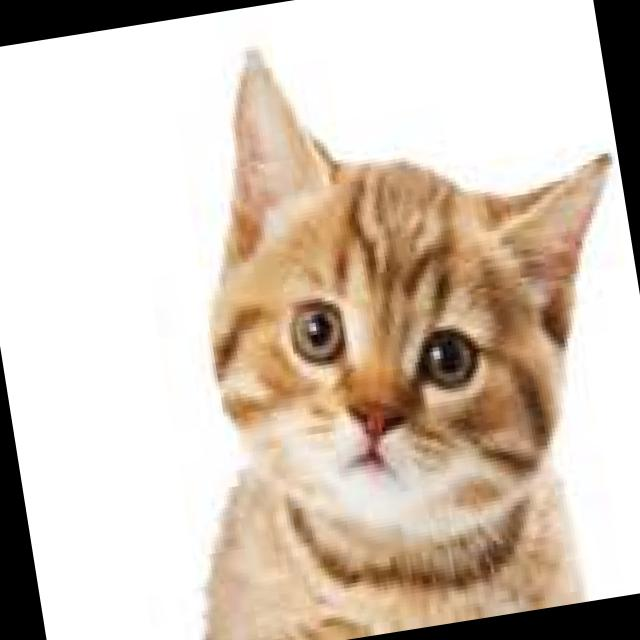animal: (95, 0, 640, 640)
